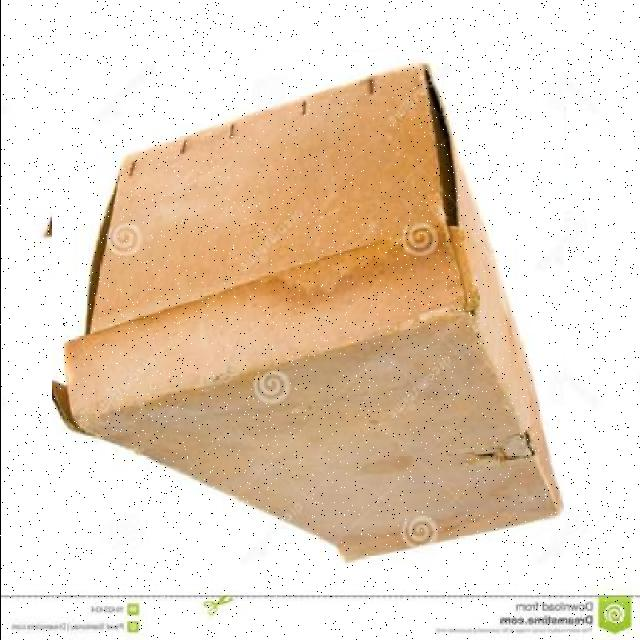defect: (51, 52, 563, 565)
